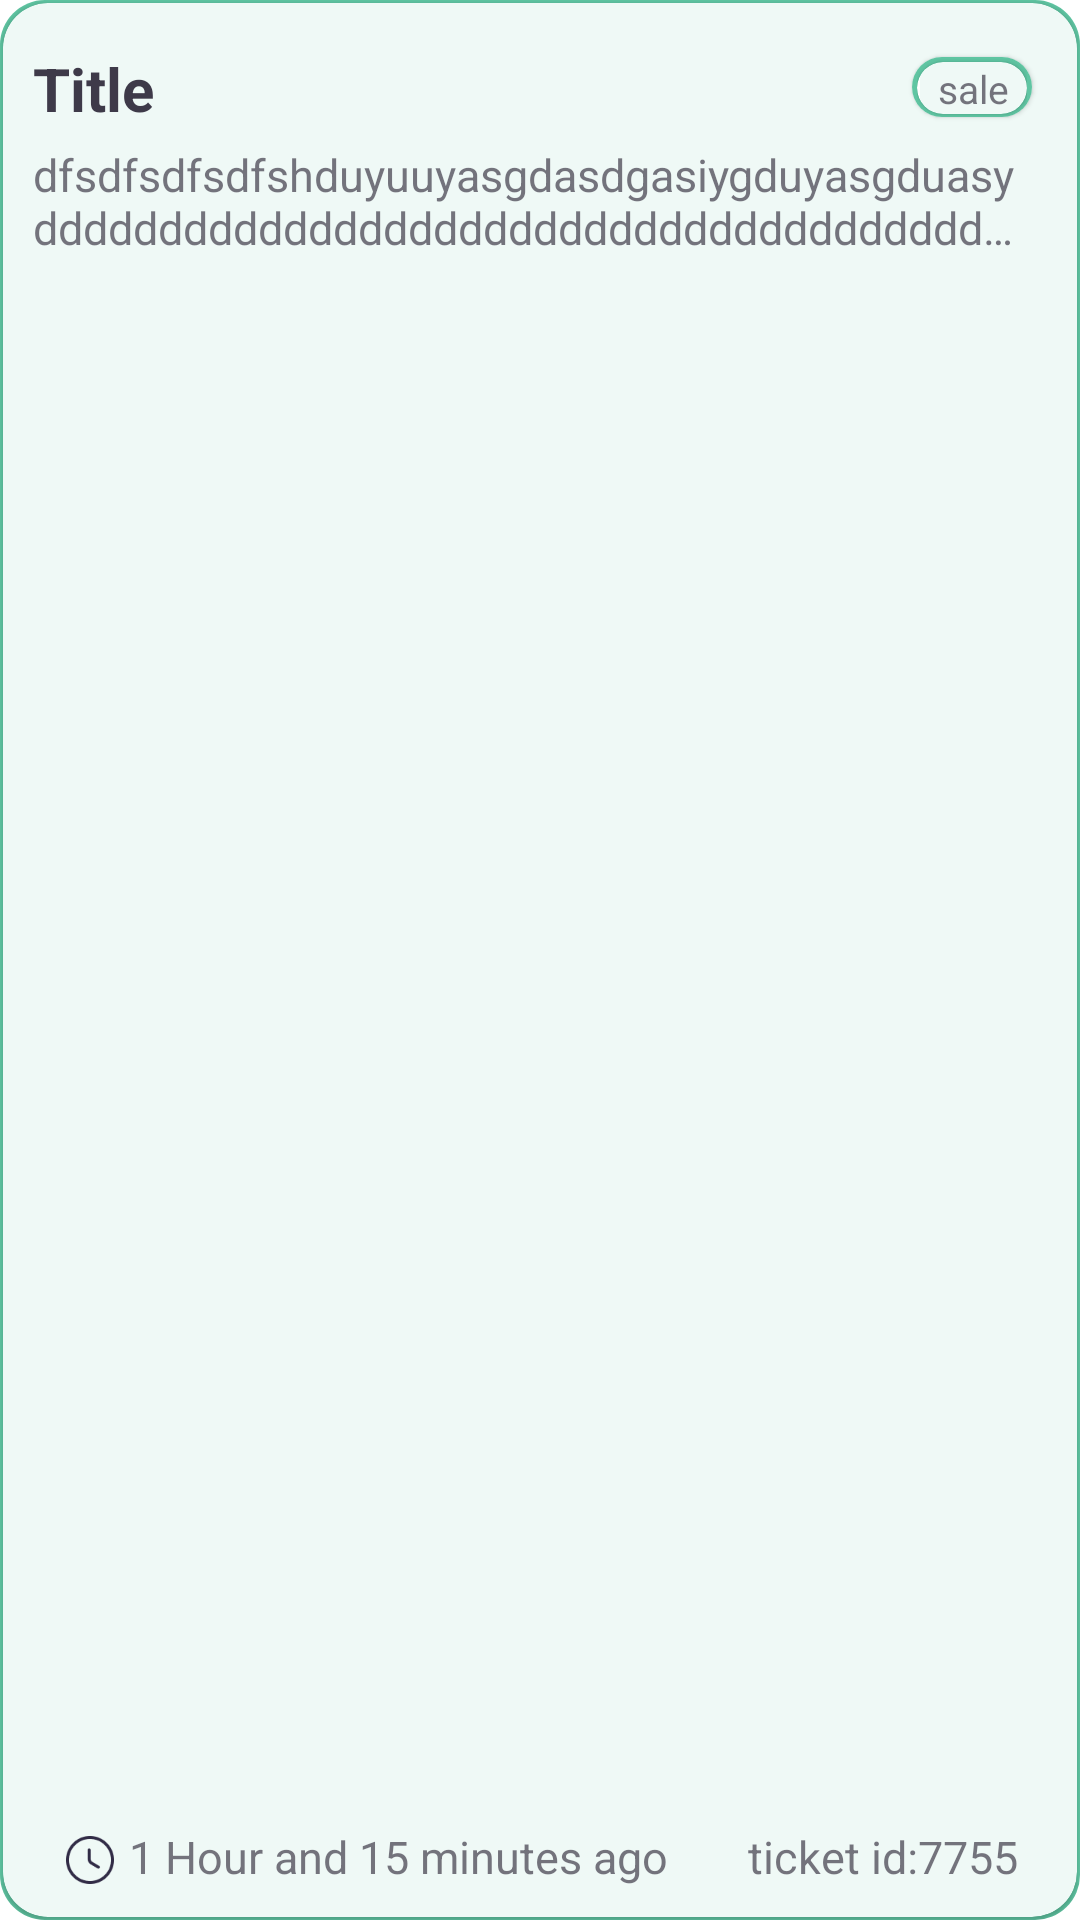

Named icons in this screenshot (1080*1920) and their centers, (x,y):
clock: (90,1860)
